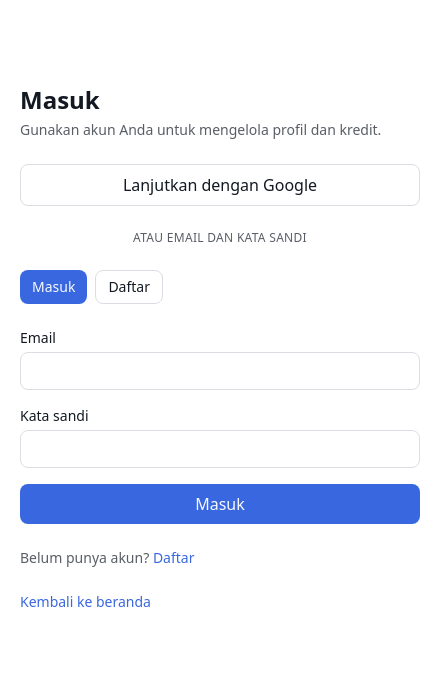
Test case: SignInPage › validates the sign-up form before contacting Supabase
This screenshot has width=441, height=699.
Click the tab "Daftar" at [129, 287], box [95,270,163,304]
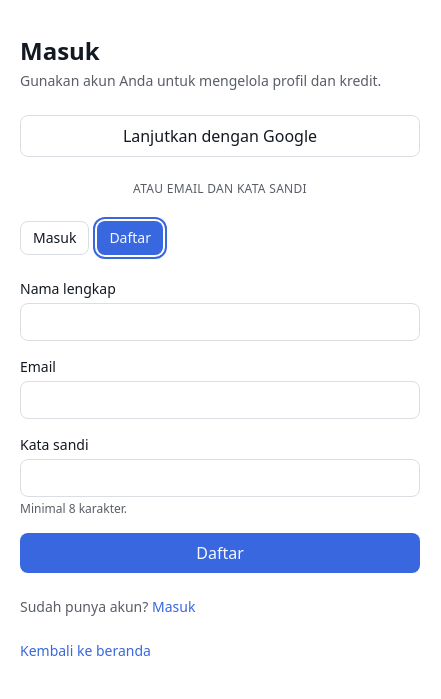
Type "Siti Rahma" into the field labelled "Nama lengkap" at [220, 322], box [20,303,420,341]
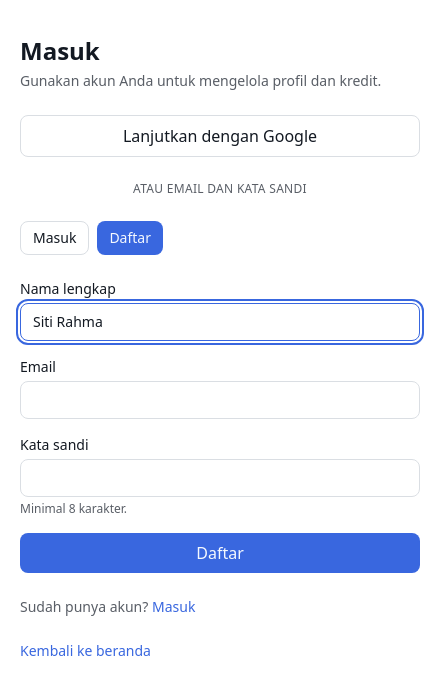
Type "siti@example.com" into the field labelled "Email" at [220, 400], box [20,381,420,419]
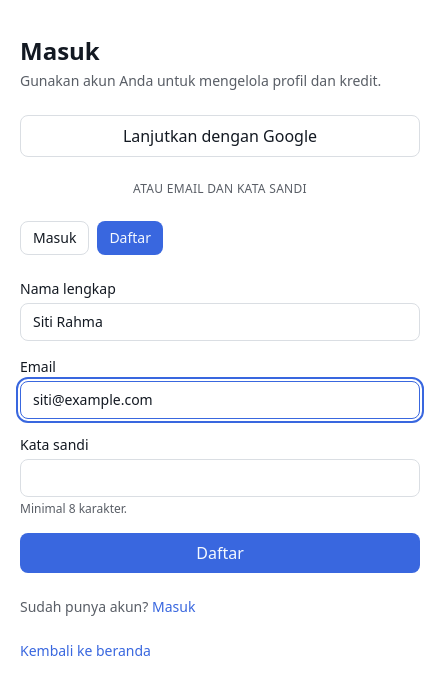
Type "short" into the password field labelled "Kata sandi" at [220, 478], box [20,459,420,497]
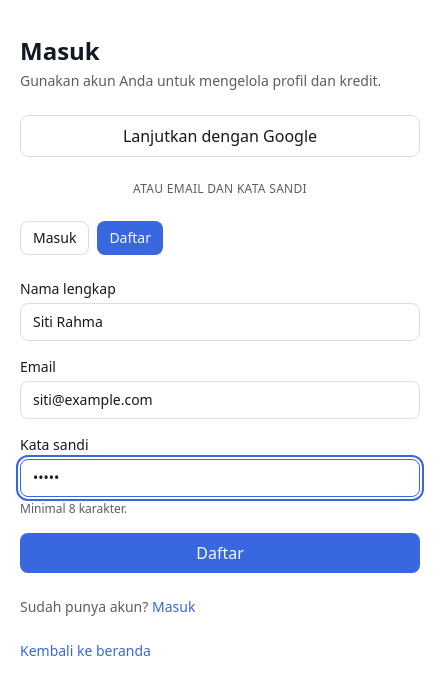
Click the button "Daftar" at [220, 553], box [20,533,420,573]
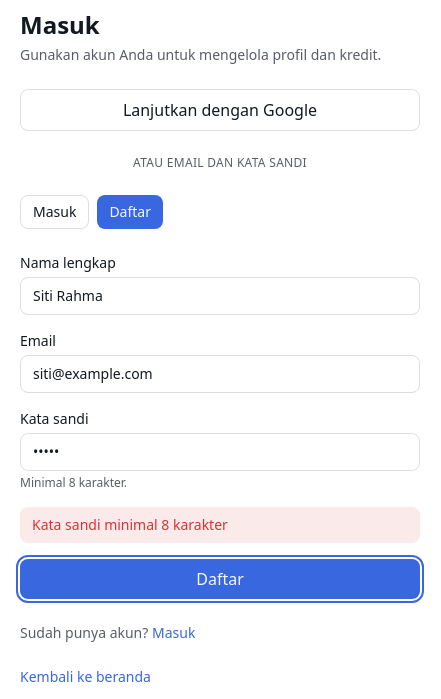
Now the message shows "minimal 8 karakter", box [32,515,228,534]
